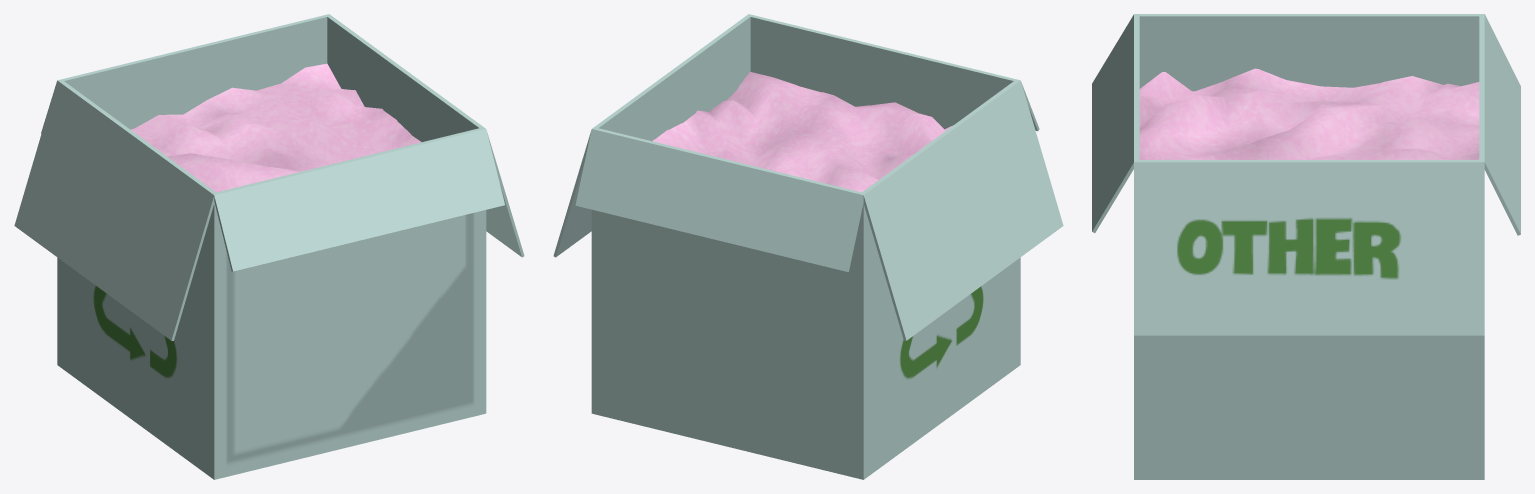
File: rac_2.fbx
3 views of the same model, side by side, from view 1: azimuth 30°, elevation 25°; view 2: azimuth 150°, elevation 25°; view 3: azimuth 270°, elevation 25° (orthographic). The views are drawn at different scales.
Visible parts, largest first — view 1: than, canh, canh6, rac, canh5; view 2: than, canh, canh4, rac, canh5; view 3: than, canh5, rac, canh6, canh4.
Boxes of the visible parts, x1,y1,x2,y2 form: than: (57,14,486,479); canh: (14,80,214,340); canh6: (214,129,504,271); rac: (131,63,421,192); canh5: (486,133,524,257); than: (591,14,1020,479); canh: (863,80,1063,340); canh4: (575,129,863,271); rac: (653,72,952,192); canh5: (553,132,591,257); than: (1134,14,1484,479); canh5: (1134,162,1484,335); rac: (1139,68,1479,159); canh6: (1092,14,1133,232); canh4: (1484,14,1520,235).
Size of the model in its own units: 1.3 by 1 by 1.22.
